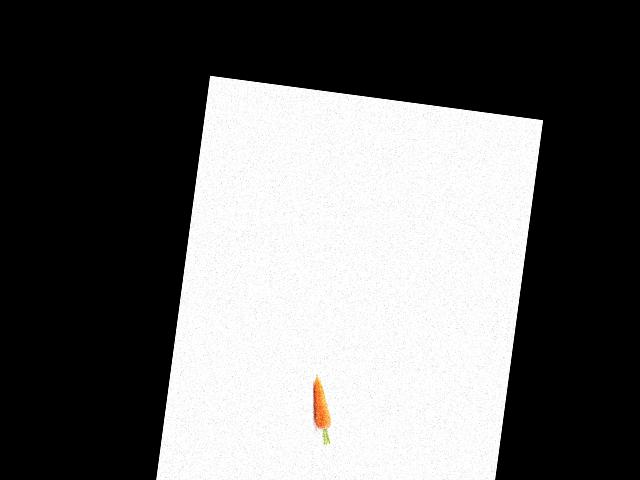carrot: (301, 371, 343, 437)
